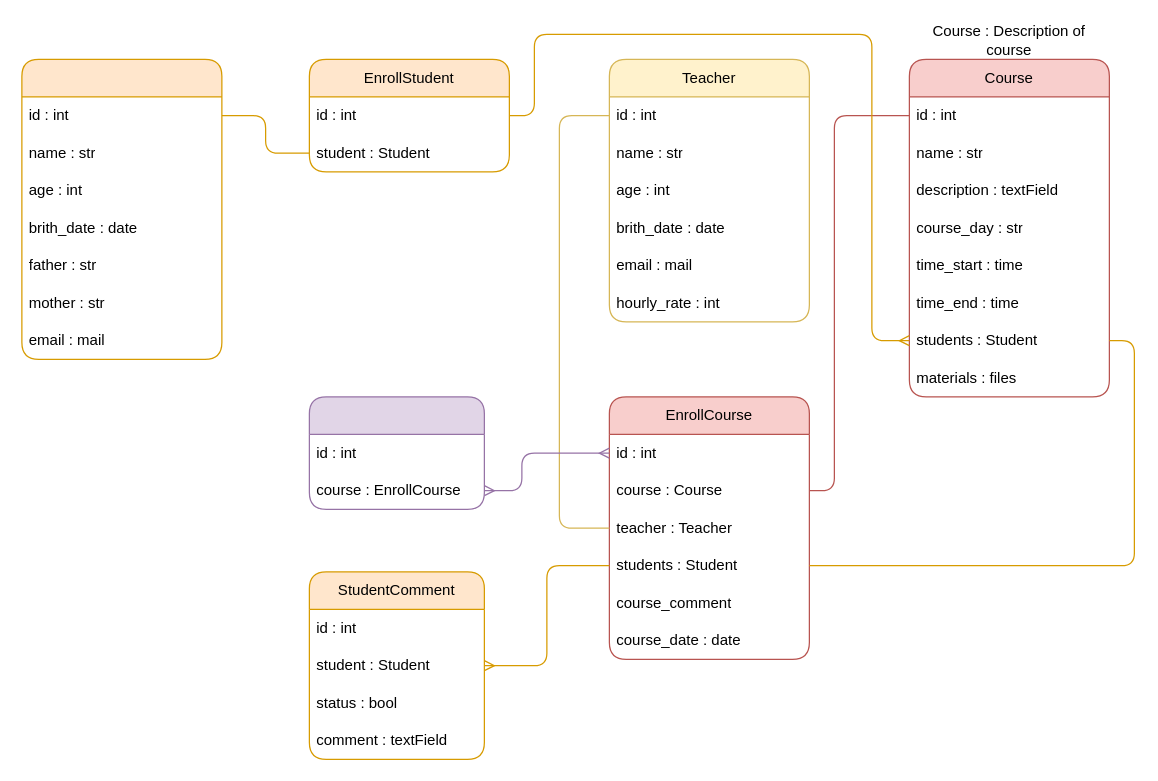
Image size: 1158x781. Some labels were removed from this diagram. The box of each missing label's shape, as (x1, y1, x2, y2) in pixels:
EnrollClass: (308, 396, 484, 509)
RegisterStudent: (21, 58, 222, 359)
